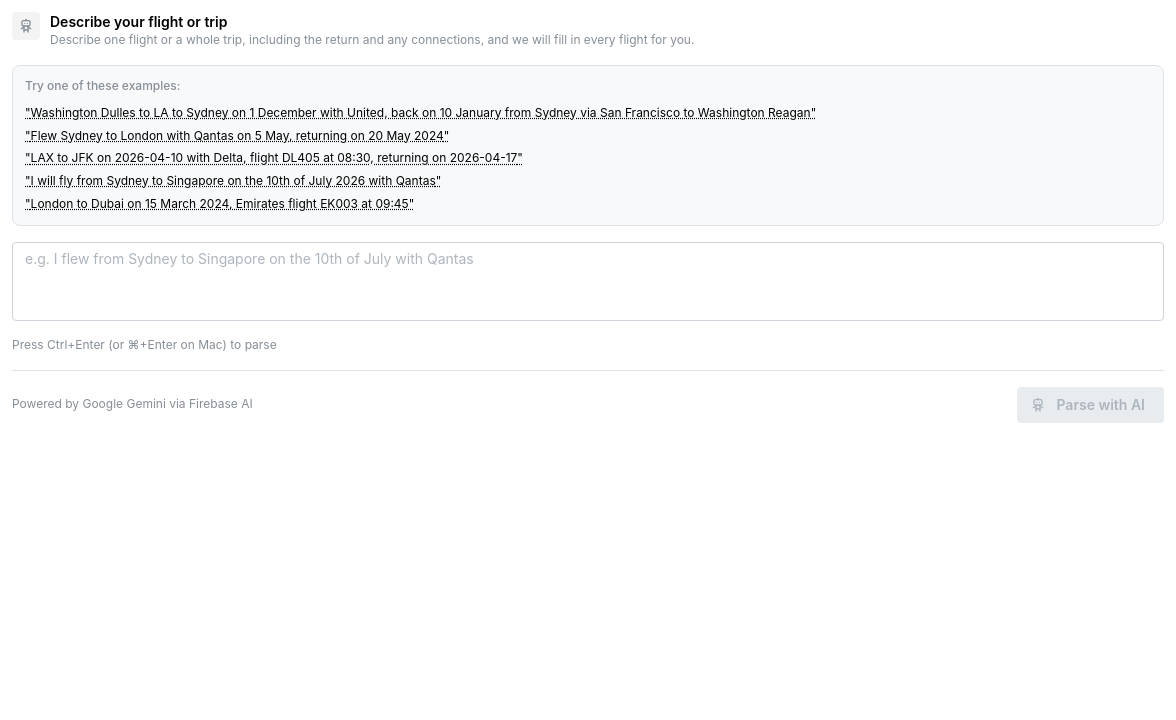
Test: FlightChatInput › shows success alert with extracted field badges after a successful parse
In the text box: {"x": 588, "y": 281} [12,242,1164,321], type "SYD to SIN on 10 July with Qantas"
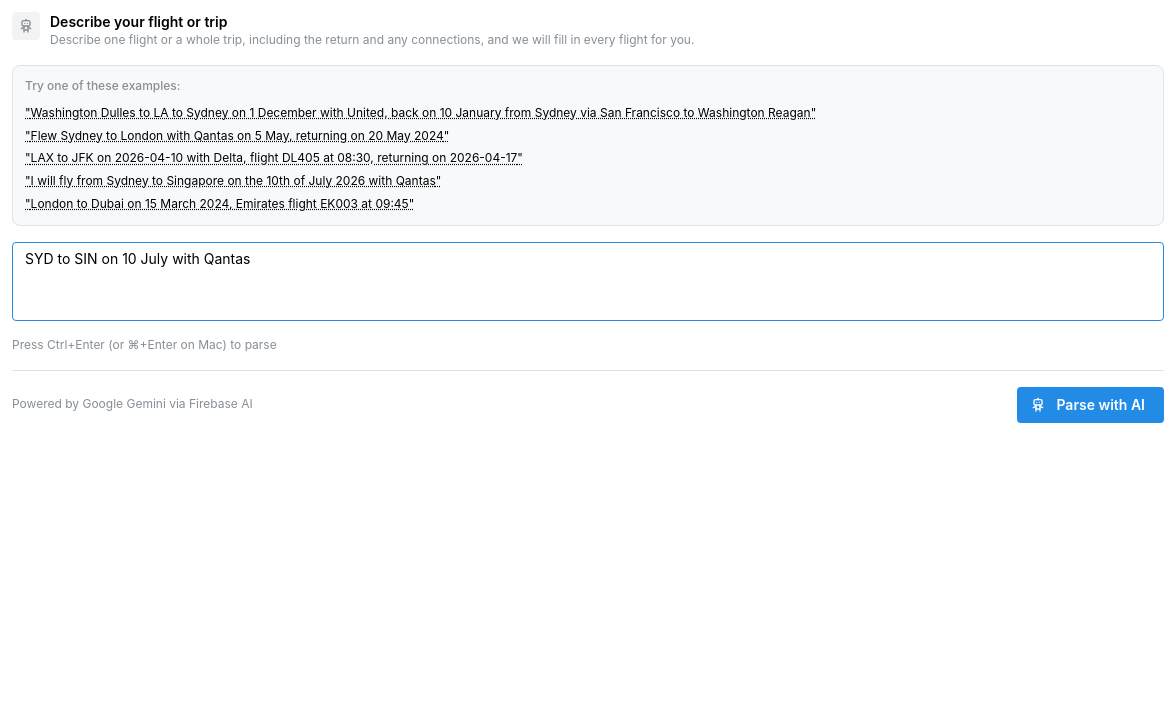
Click the button "Parse with AI": {"x": 1091, "y": 405} [1018,387,1164,423]
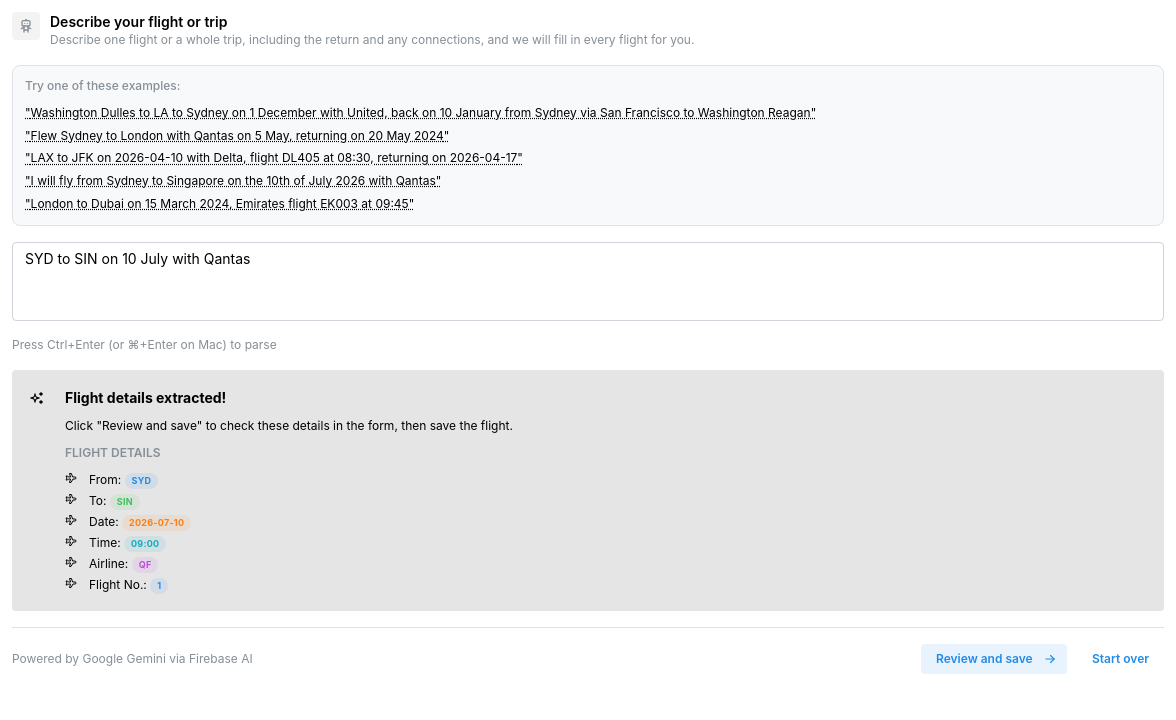
Now the text "Flight details extracted!" is shown, box [65,387,226,408]
Now the text "SYD" is shown, box [132,474,151,488]
Now the text "SIN" is shown, box [117,495,133,509]
